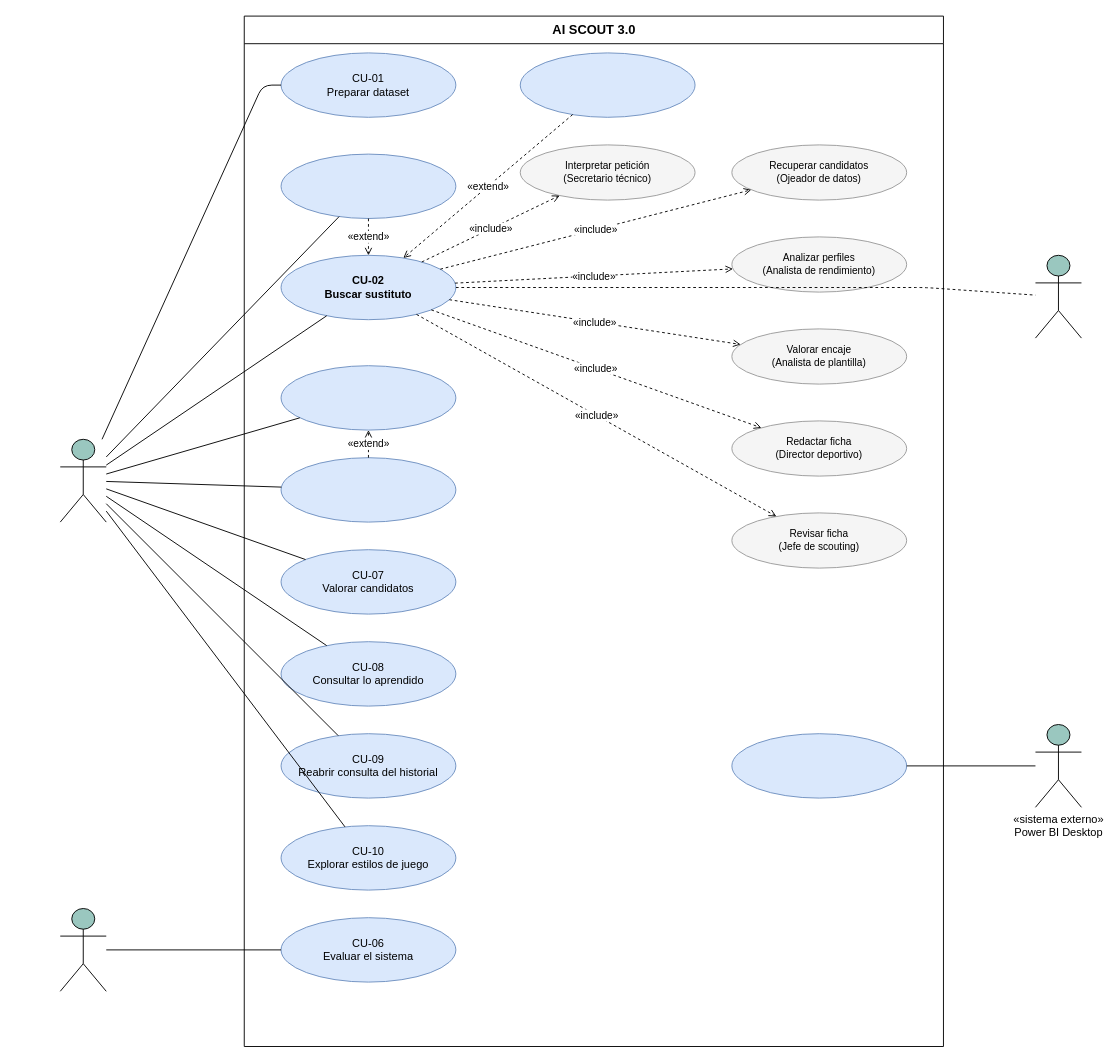
This 1120x1063 diagram has some shape labels left out. The shapes that lost their labels are listed below. From the top down, each one's centre as x and y in pixels, then its label:
[607,84]: CU-04 Exportar consulta
[368,185]: CU-12 Buscar desde un jugador destacado (cromo)
[1058,296]: «sistema externo» Proveedor LLM (Gemini / Claude)
[368,397]: CU-03 Consultar ficha de ojeador
[82,480]: Analista / Director deportivo
[368,489]: CU-11 Descargar informe PDF
[819,765]: CU-05 Ver histórico en cuadro de mando
[82,949]: Evaluador
